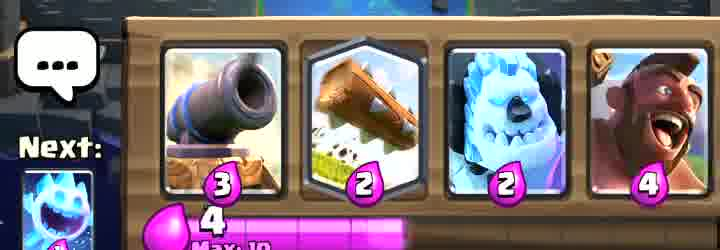cannon: (171, 50, 283, 196)
hog-rider: (587, 52, 703, 200)
ice-golem: (447, 52, 561, 198)
ice-spirit: (24, 171, 94, 250)
log: (310, 43, 423, 192)
